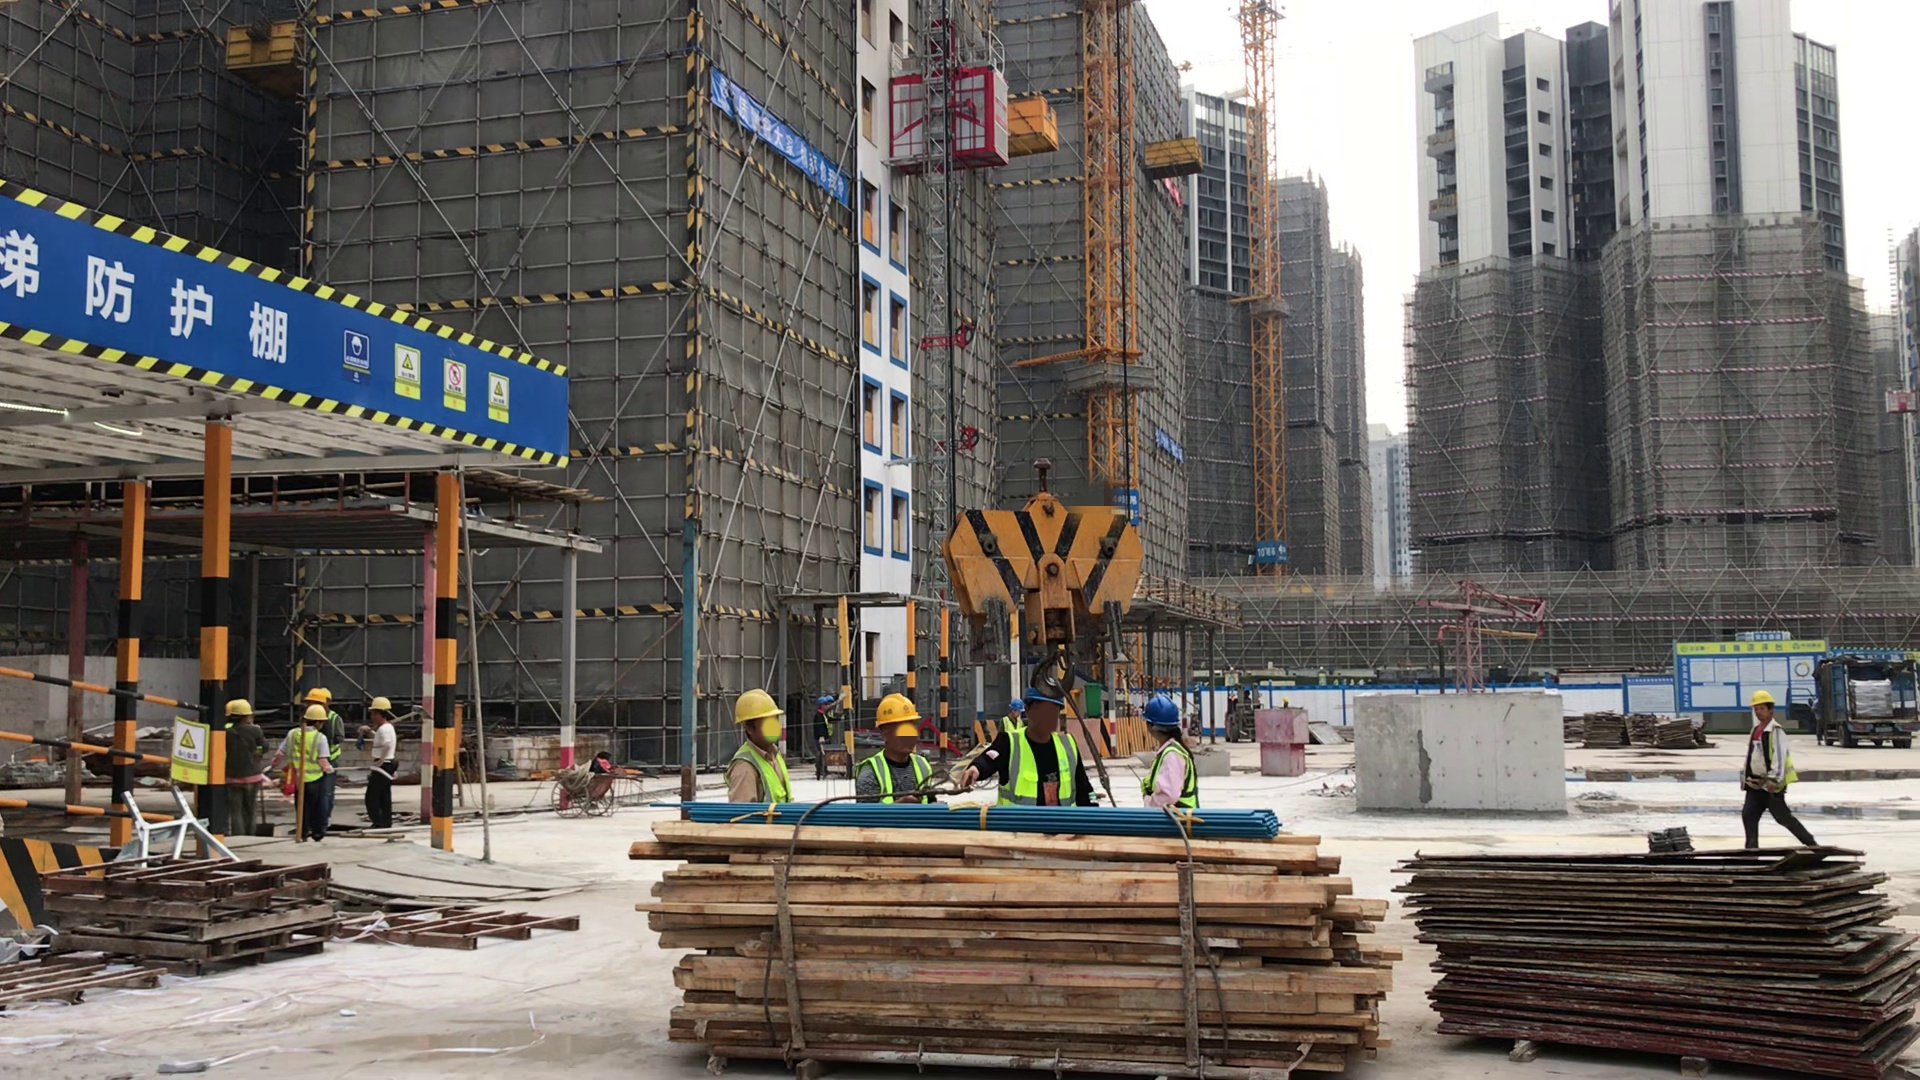board: (1401, 850, 1919, 1071)
handcart: (551, 756, 632, 819), (813, 736, 857, 783)
helmet: (874, 688, 922, 729), (736, 689, 783, 728), (1145, 693, 1184, 727), (229, 700, 255, 721), (1748, 689, 1773, 709), (302, 706, 329, 725), (368, 693, 392, 713), (1005, 687, 1023, 711), (306, 687, 332, 703)
hook: (951, 464, 1142, 686)
person: (1738, 682, 1821, 851), (983, 683, 1089, 802), (857, 691, 931, 809), (288, 689, 345, 837), (727, 689, 796, 805), (1138, 690, 1199, 814), (354, 691, 405, 825), (228, 692, 262, 830)
slogan: (708, 65, 844, 209), (339, 326, 525, 427), (165, 716, 208, 784)
vest: (997, 722, 1082, 801), (1144, 746, 1203, 807), (863, 752, 929, 800), (286, 728, 325, 783)
wood: (640, 813, 1401, 1071)
